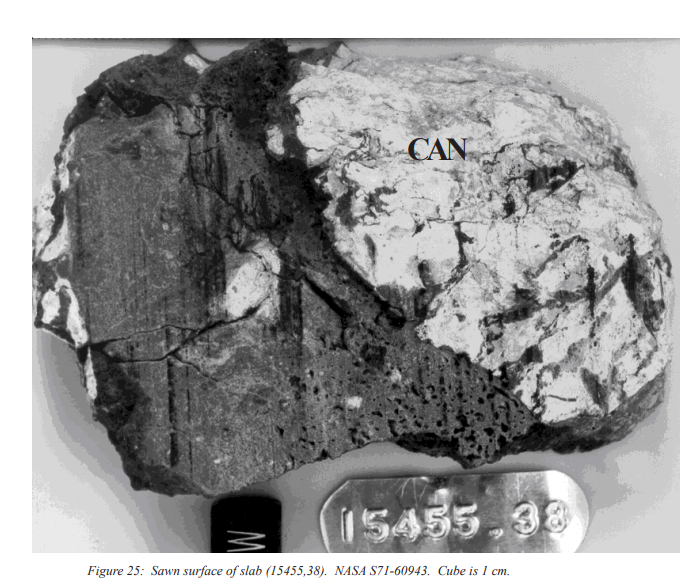Breccia: (46, 68, 676, 474), (193, 136, 585, 441)
